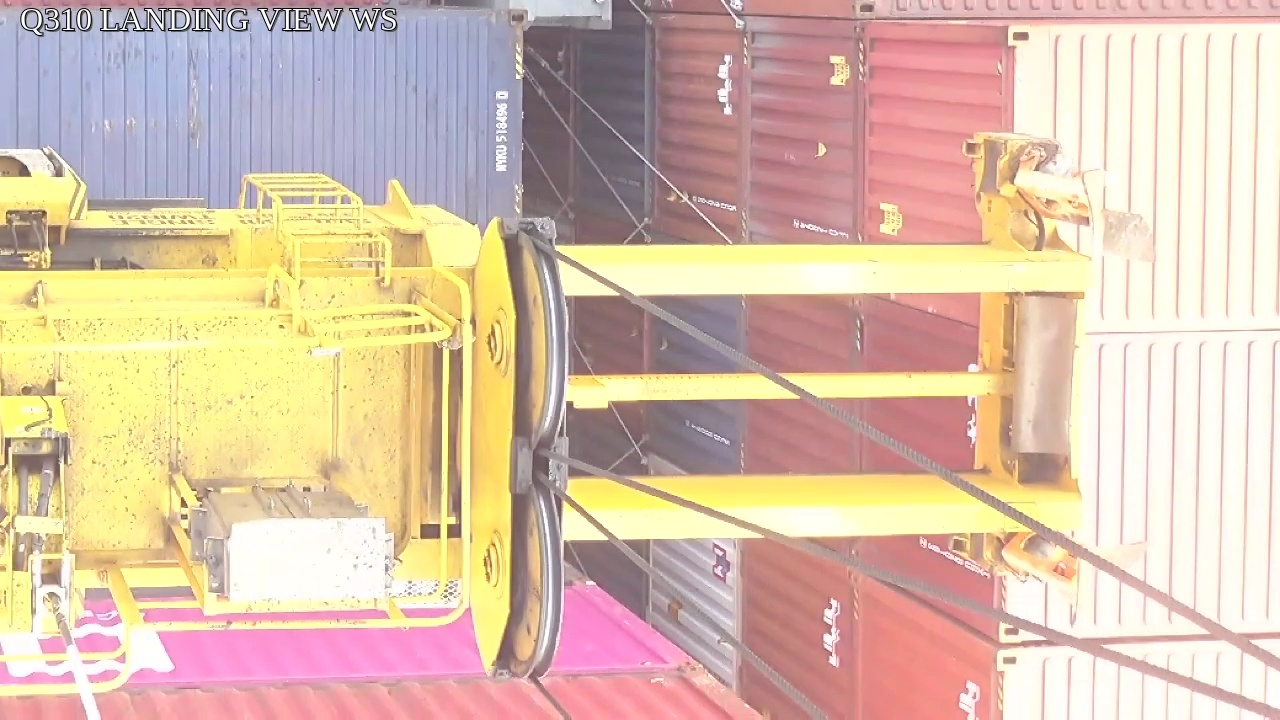right: (466, 216, 570, 680)
